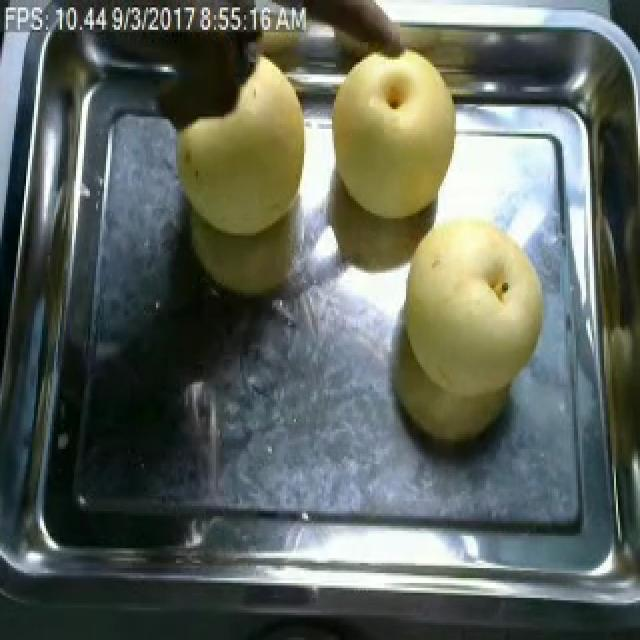Fruit: (388, 204, 556, 452), (160, 39, 322, 250), (316, 34, 470, 226)
